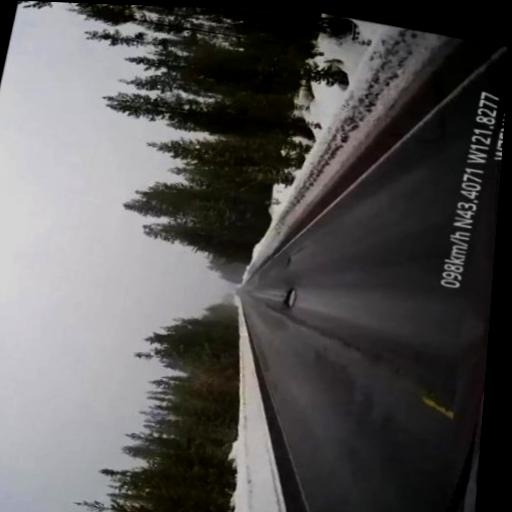pothole: (283, 288, 295, 308)
